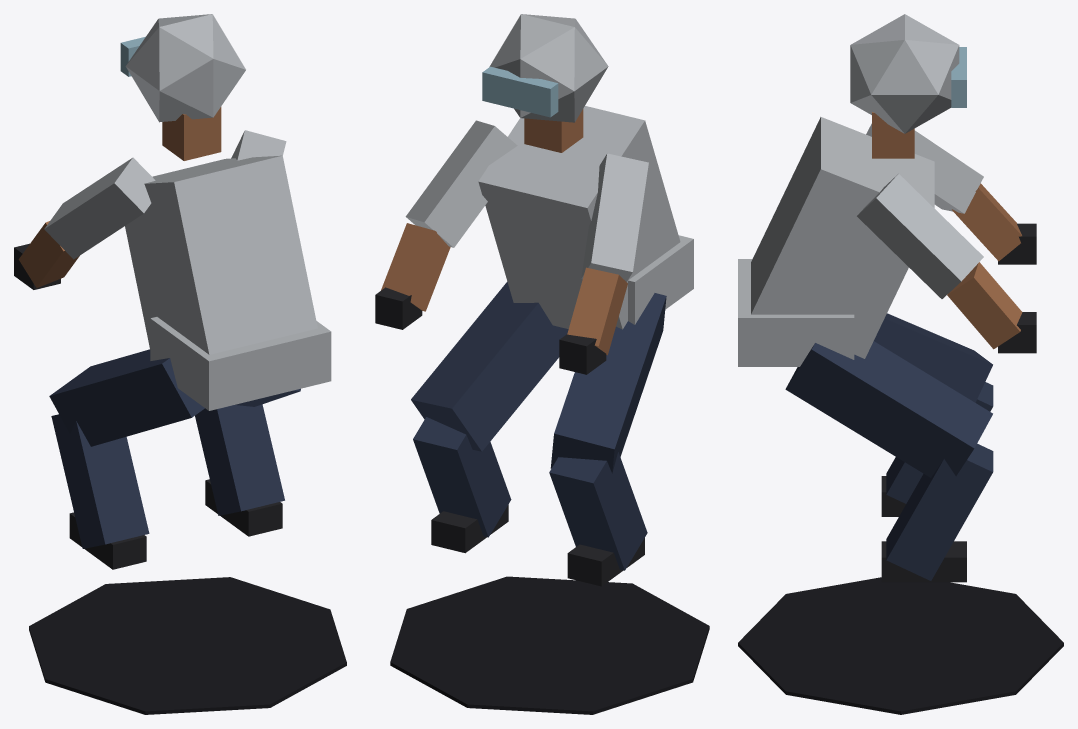
File: veh_moto_rider.glb
3 renders of one model, left to right at view 1: azimuth 30°, elevation 25°; view 2: azimuth 150°, elevation 25°; view 3: azimuth 270°, elevation 25°, orthographic.
Visible parts, largest first — view 1: rider_skin, rider_paint; view 2: rider_skin, rider_paint; view 3: rider_skin, rider_paint.
Boxes of the visible parts, left/top/right/bottom form: rider_skin: left=14, top=36, right=346, bottom=714; rider_paint: left=44, top=14, right=331, bottom=410; rider_skin: left=375, top=66, right=709, bottom=714; rider_paint: left=405, top=14, right=693, bottom=329; rider_skin: left=738, top=47, right=1063, bottom=714; rider_paint: left=738, top=14, right=983, bottom=366.
Size of the model in its own units: 0.8401 by 1.76 by 0.8401.
